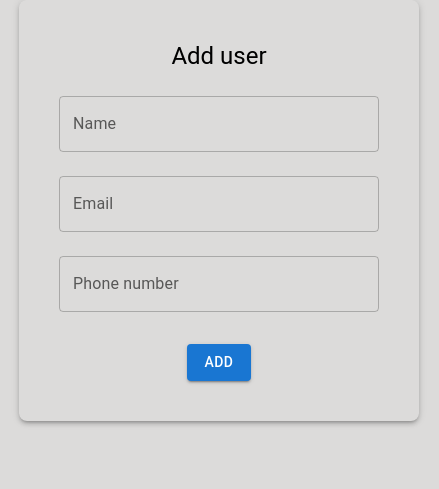
it: UserForm component › validates form fields and shows errors
Click the button "Add".
click(219, 363)  # box [187, 344, 251, 381]
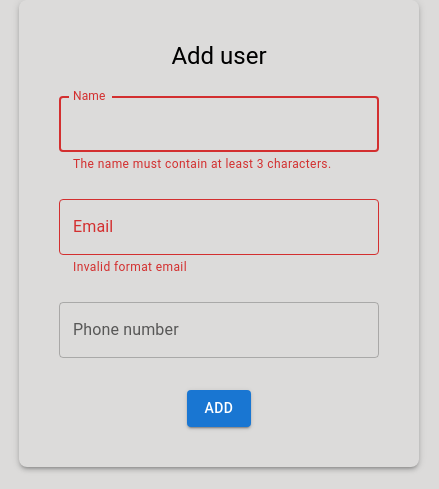
Now the text "The name must contain at least 3 characters." is shown, box [73, 155, 365, 175]
Now the text "Invalid format email" is shown, box [73, 260, 187, 274]
